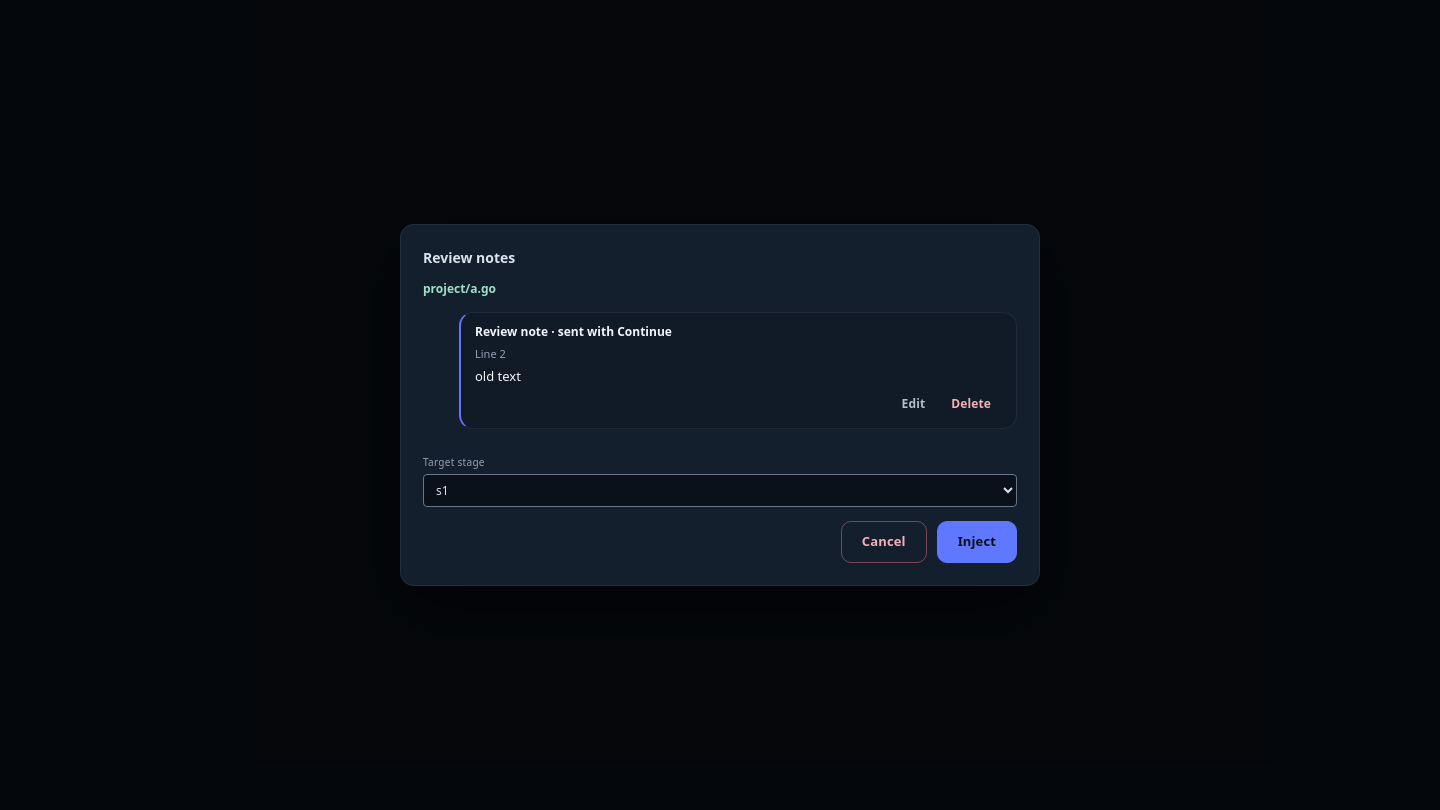
Test: ReviewNotesModal › edits in the shared editor; Escape folds it back without saving, closing the modal or losing the note
Check: the text "old text" is shown, box x1=475 y1=367 x2=521 y2=385
Click the button with aria-label "Edit review note on line 2".
click(913, 404)  # box x1=891 y1=390 x2=936 y2=418
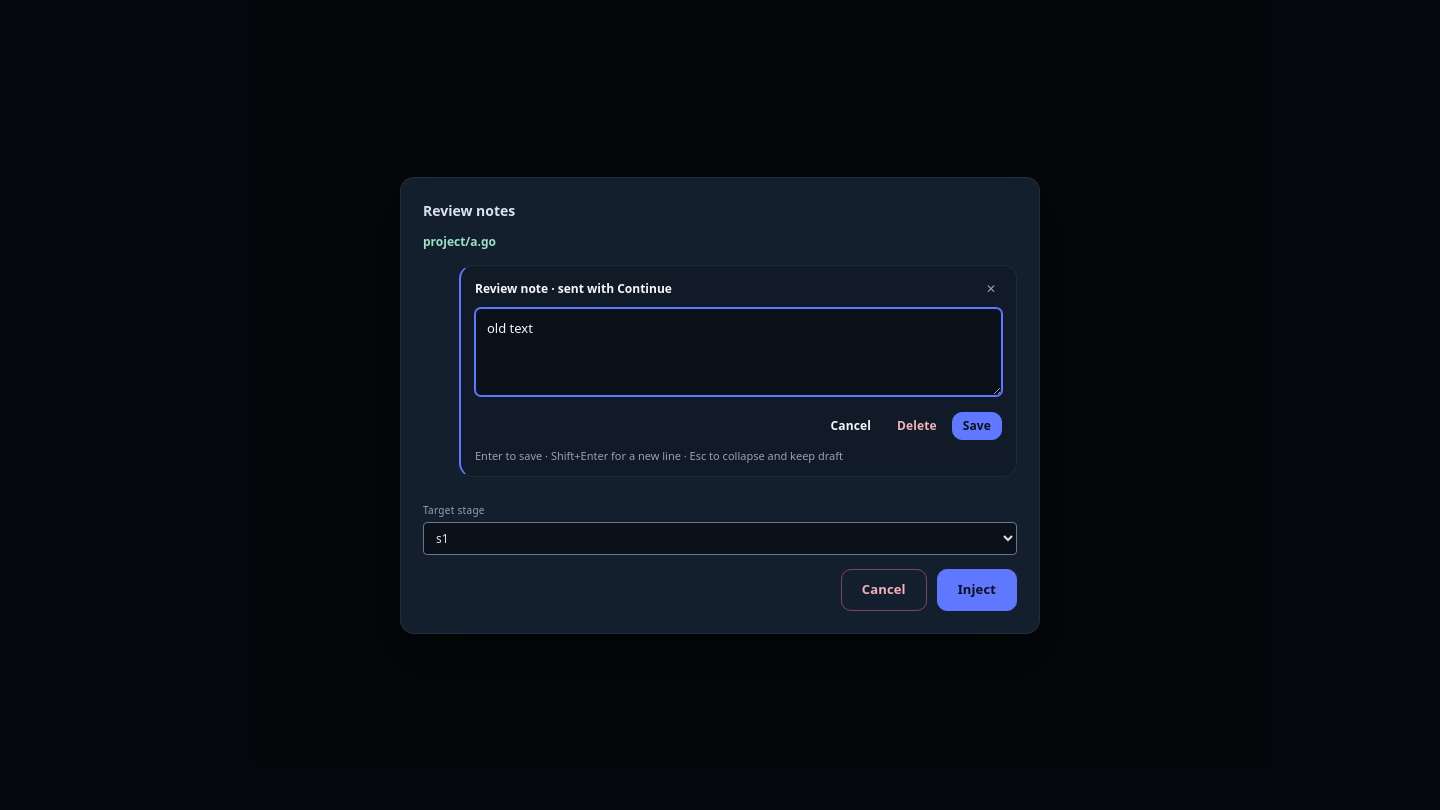
Check: the element with class "comment-editor" is shown, box x1=459 y1=264 x2=1017 y2=477
Replace the text in the text box with "half typed" at (738, 352), box x1=475 y1=308 x2=1002 y2=396
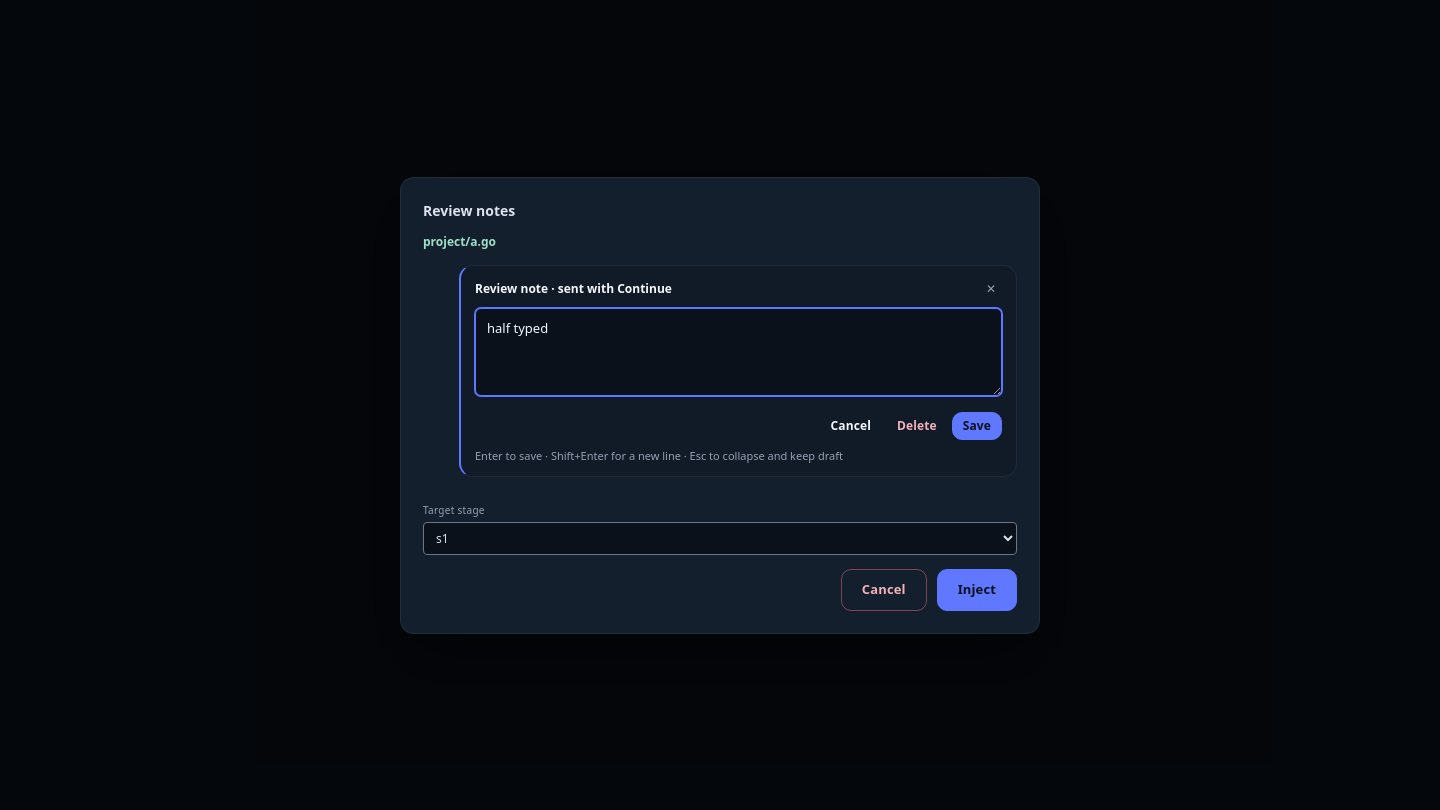
Press Escape in the text box, box x1=475 y1=308 x2=1002 y2=396
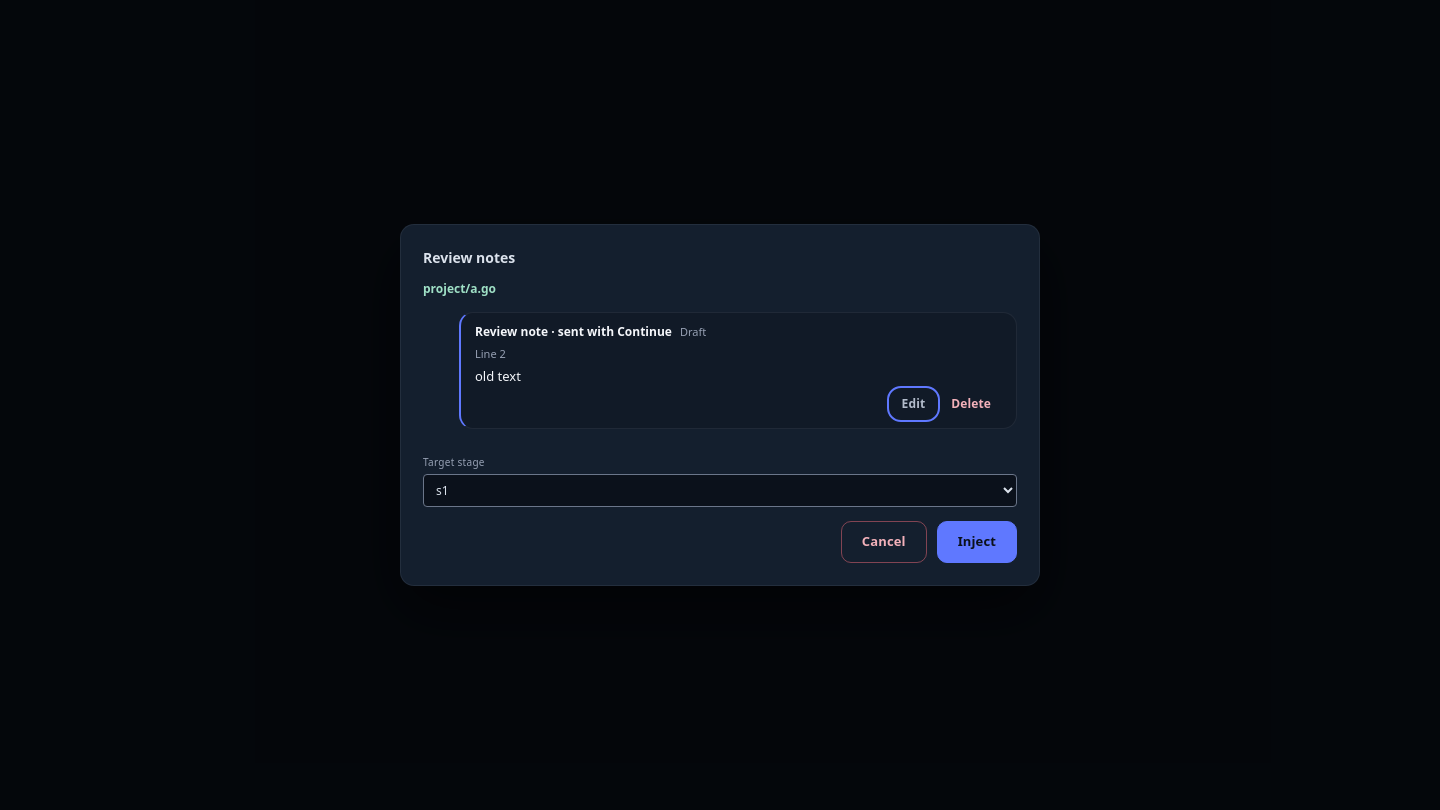
Check: the element with class "comment-editor" is gone
Check: the text "old text" is shown, box x1=475 y1=367 x2=521 y2=385
